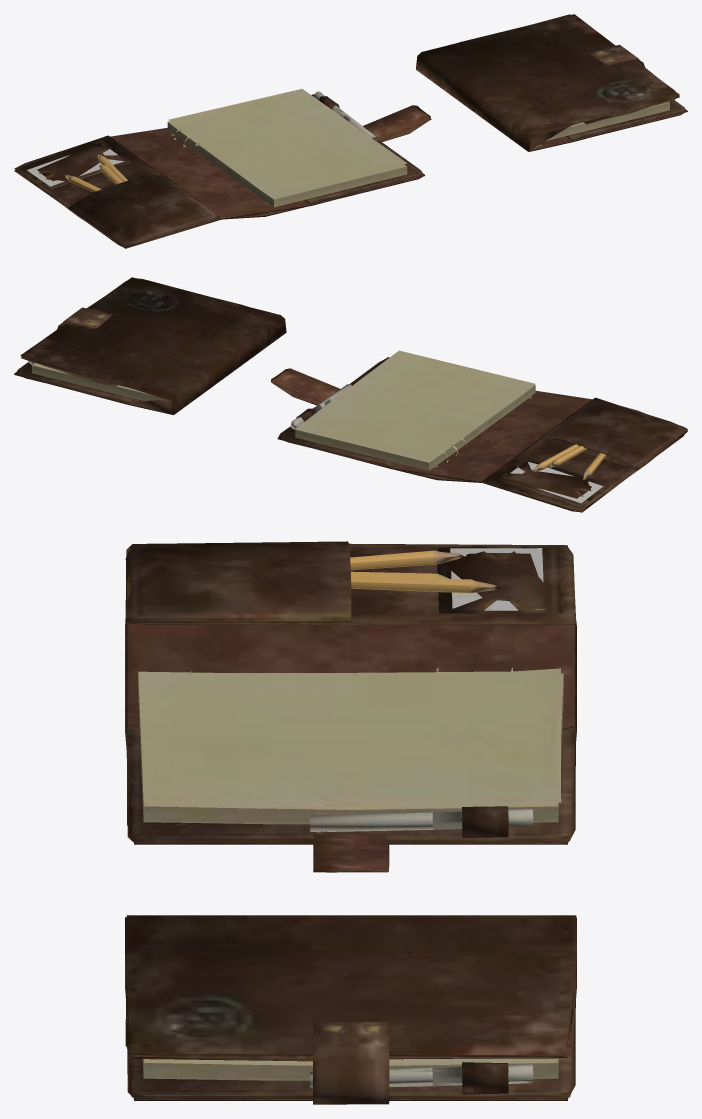
File: ph-binder_notebook.glb
3 views of the same model, one above another, from view 1: azimuth 30°, elevation 25°; view 2: azimuth 150°, elevation 25°; view 3: azimuth 270°, elevation 25° (orthographic). The views are drawn at different scales.
Visible parts, largest first — view 1: binder_notebook (×2), binder_notebook_closed (×2); view 2: binder_notebook (×2), binder_notebook_closed (×2); view 3: binder_notebook (×2), binder_notebook_closed (×2).
Boxes of the visible parts, bbox=[...] form: binder_notebook (×2): bbox=[14, 88, 431, 248]; binder_notebook_closed (×2): bbox=[416, 14, 687, 151]; binder_notebook (×2): bbox=[271, 350, 687, 512]; binder_notebook_closed (×2): bbox=[14, 277, 286, 414]; binder_notebook (×2): bbox=[125, 541, 576, 872]; binder_notebook_closed (×2): bbox=[125, 915, 576, 1104].
Bounding box in the file's own units: 0.3 × 0.0122 × 0.1029.
Materials: 1 (1 with a texture image).
